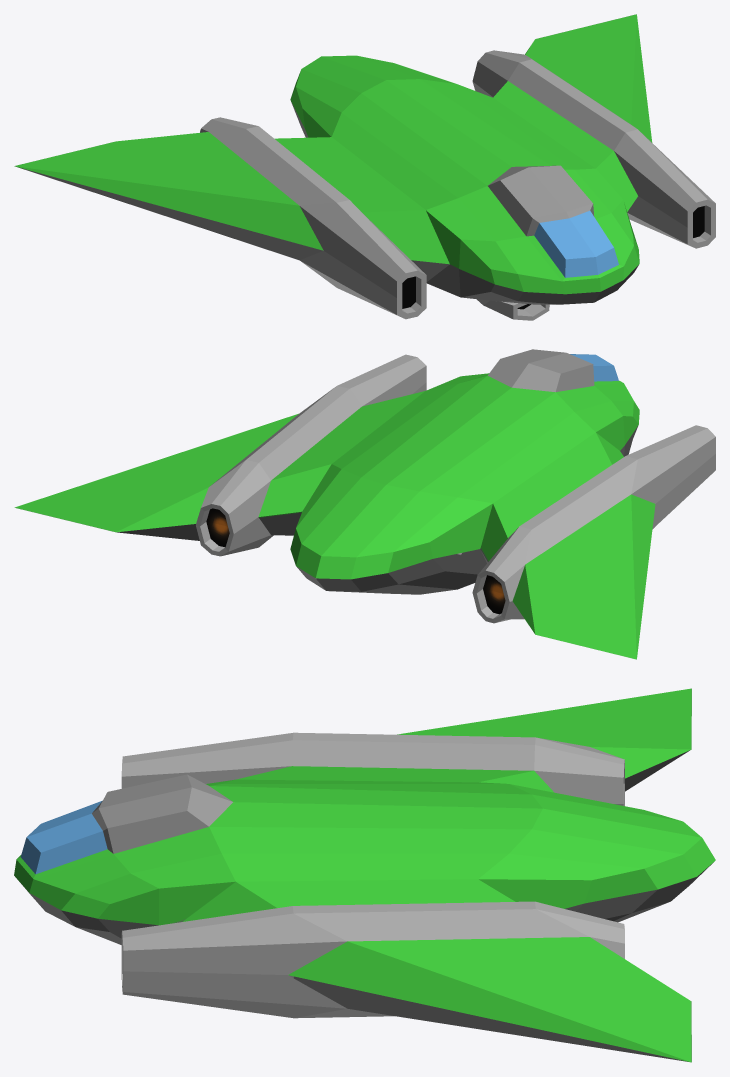
File: MediumSpaceship.fbx
3 renders of one model, top to bottom at view 1: azimuth 30°, elevation 25°; view 2: azimuth 150°, elevation 25°; view 3: azimuth 270°, elevation 25°, orthographic. The views are drawn at different scales.
Visible parts, largest first — view 1: ShipBody; view 2: ShipBody; view 3: ShipBody.
Boxes of the visible parts, left/top/right/bottom form: ShipBody: left=14, top=14, right=715, bottom=320; ShipBody: left=14, top=349, right=715, bottom=659; ShipBody: left=14, top=688, right=715, bottom=1062.
Size of the model in its own units: 529 by 122 by 420.
